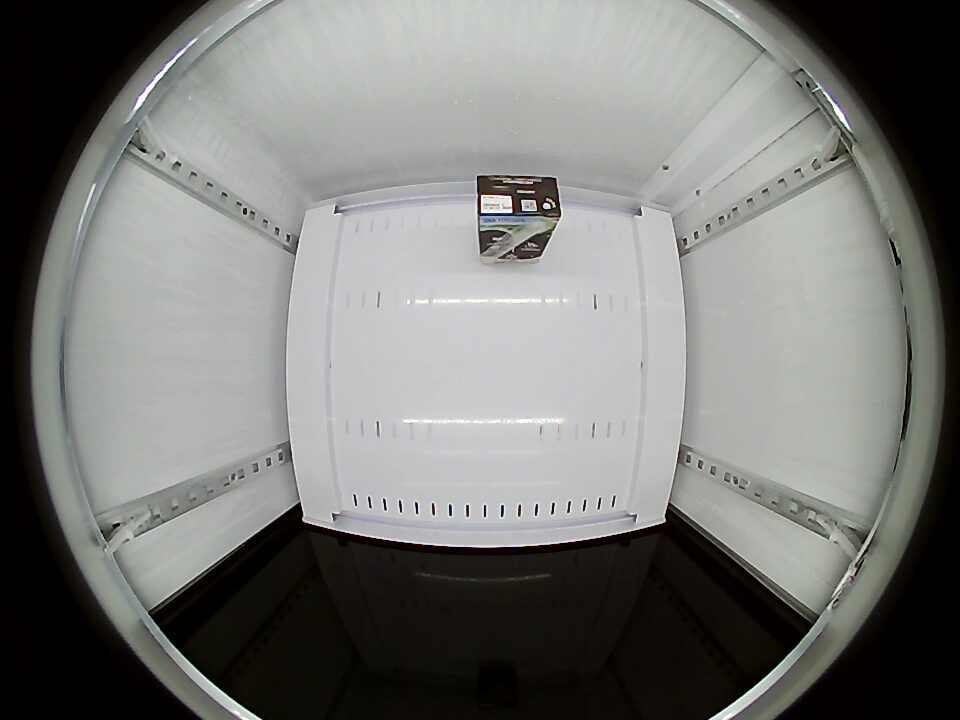weitanai2: (477, 175, 562, 234)
